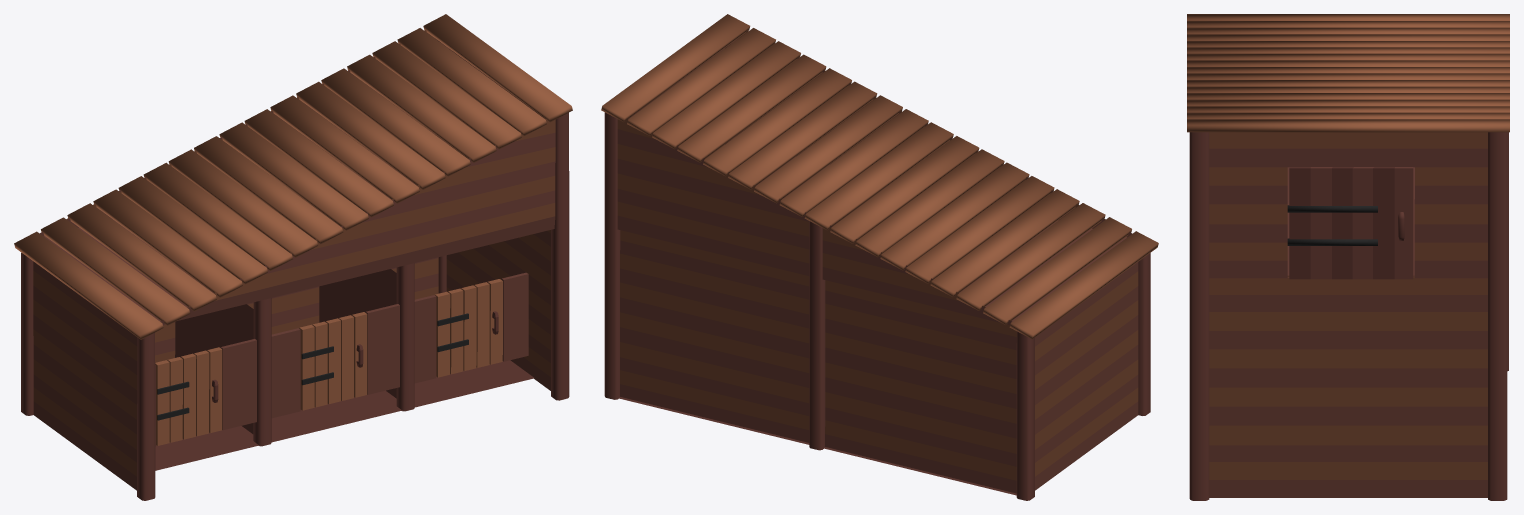
File: stable_lowpoly.fbx
3 renders of one model, left to right at view 1: azimuth 30°, elevation 25°; view 2: azimuth 150°, elevation 25°; view 3: azimuth 270°, elevation 25°, orthographic. The views are drawn at different scales.
Parts seen in each view (by area): view 1: stable, wall, door_2, door_1, door_3; view 2: stable; view 3: stable, dore_4.
Part boxes in pixels (x1,y1,x2,y2): stable: (14,14,572,500); wall: (155,272,528,446); door_2: (299,312,367,410); door_1: (155,347,222,445); door_3: (435,279,502,377); stable: (601,14,1158,500); stable: (1187,14,1509,500); dore_4: (1287,167,1413,279).
Size of the model in its own units: 317 by 205 by 159.
